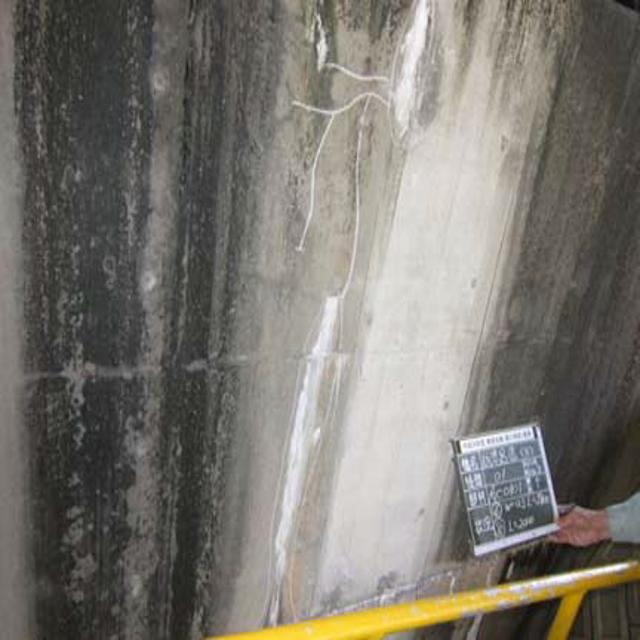freelime: (244, 292, 353, 582), (368, 8, 456, 132)
